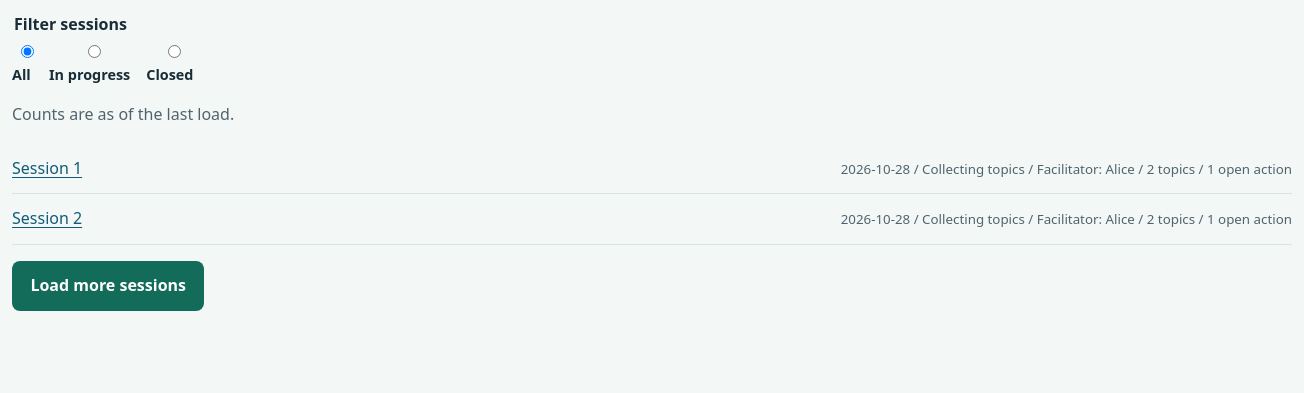
SH6: a failed page keeps loaded rows and Retry replays the same request
The width and height of the screenshot is (1304, 393).
Click the button "Load more sessions" at (108, 286), box [12, 261, 204, 311]
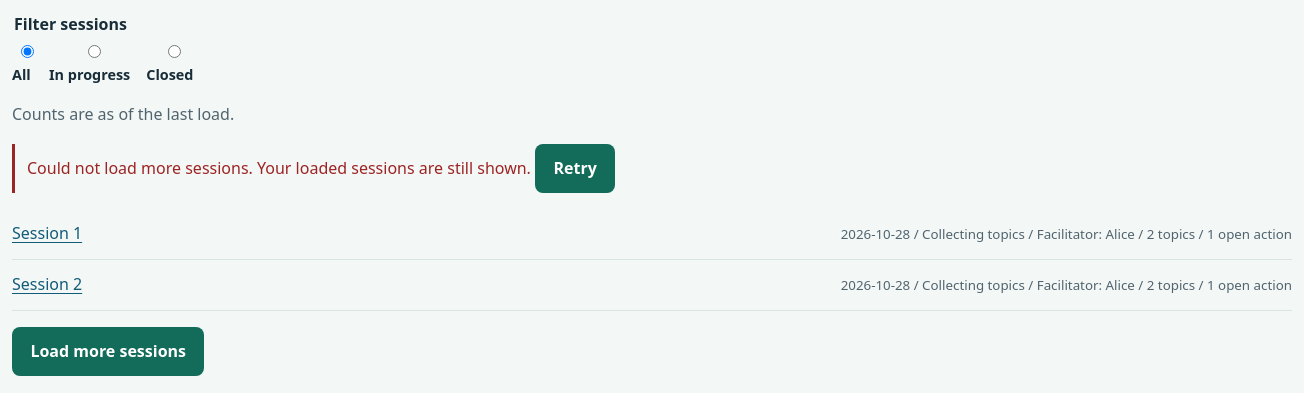
expect the number of list items is 2: met, box [12, 209, 1292, 260]; [12, 260, 1292, 311]
expect the message "Could not load more sessions. Your loaded sessions are still shown. Retry" is shown: met, box [12, 144, 1292, 193]
Click the button "Retry" at (575, 169), box [535, 144, 615, 193]
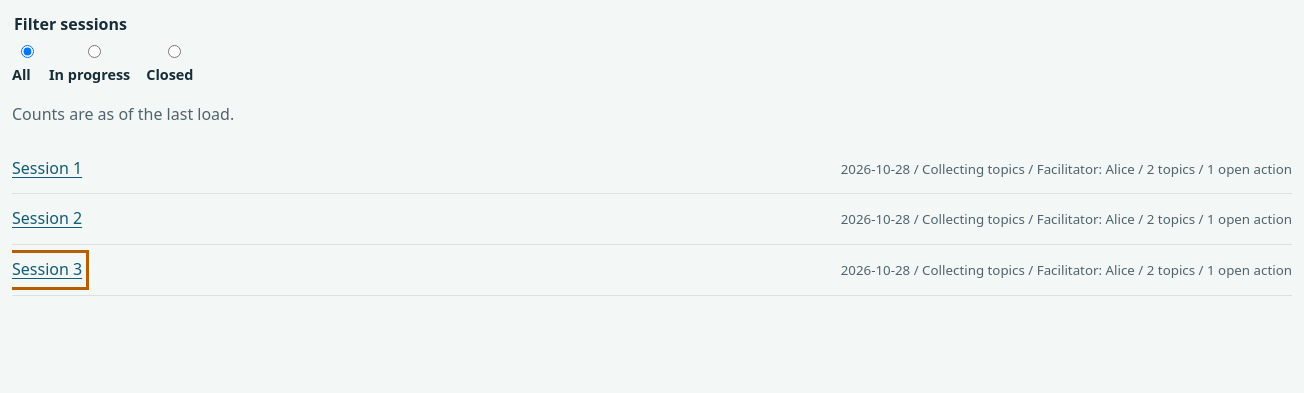
expect the number of list items is 3: met, box [12, 144, 1292, 194]; [12, 194, 1292, 245]; [12, 245, 1292, 296]
